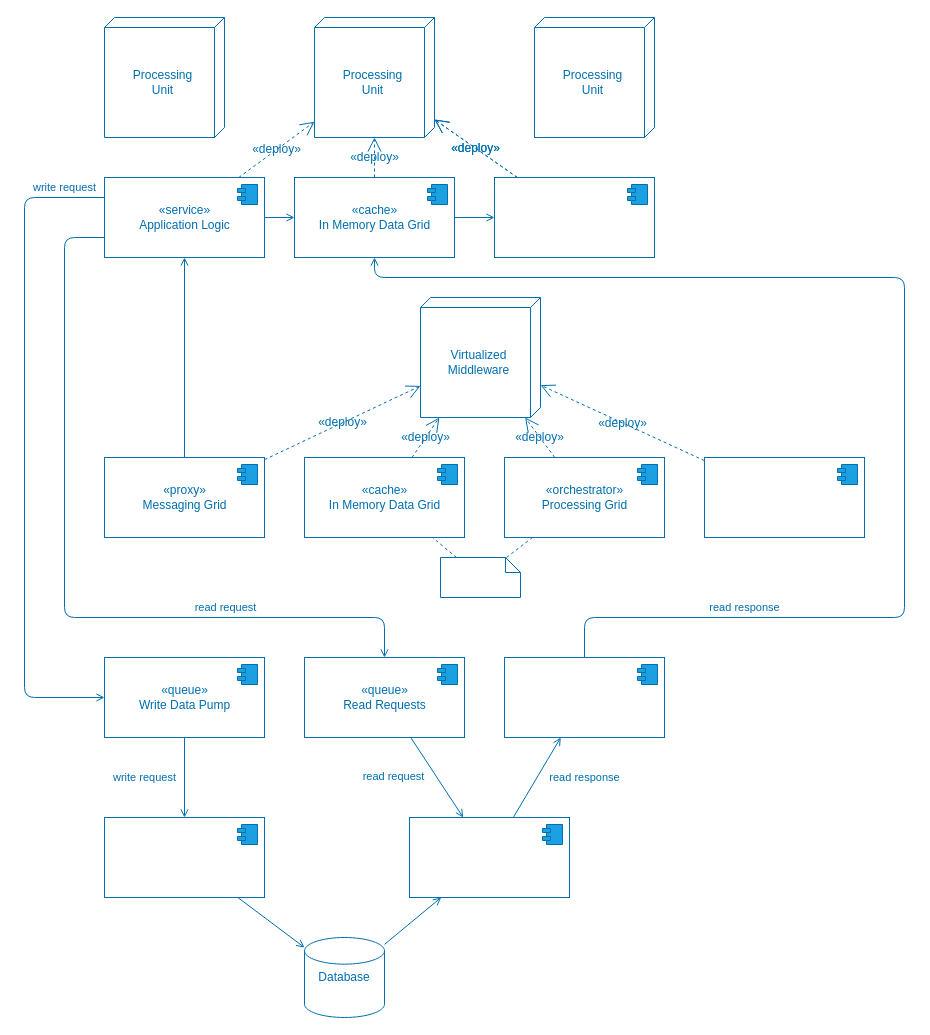
Image size: 930x1035. Some labels were removed from this diagram. Each missing label, with the box of its shape:
Optional: (440, 556, 520, 598)
«agent» Deployment Manager: (704, 456, 864, 538)
«data reader» Data Reader: (408, 816, 570, 898)
«data writer» Data Writer: (104, 816, 264, 898)
«driver» Data Replication Engine: (494, 176, 654, 258)
«queue» Reverse Data Pump: (504, 656, 664, 738)
